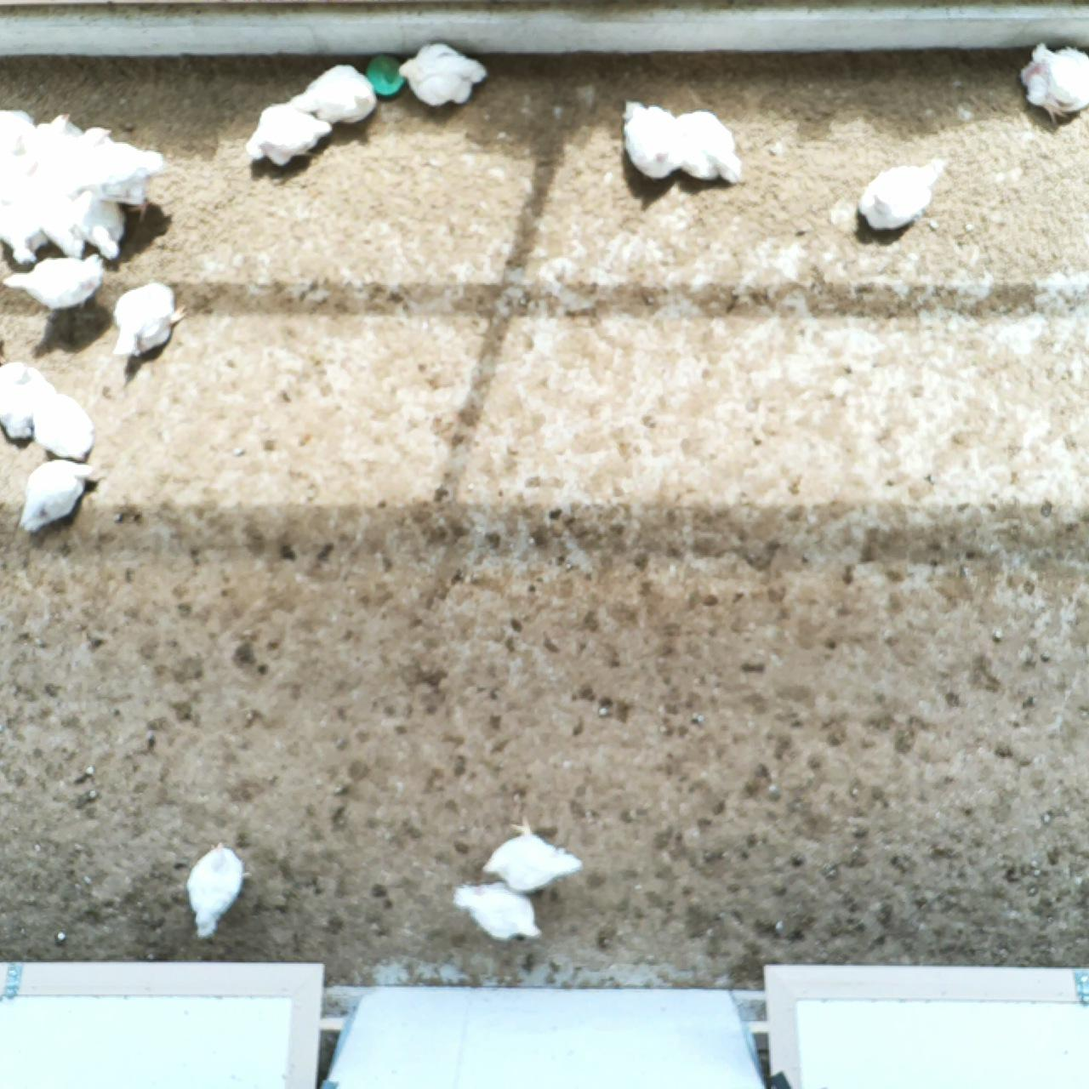chicken: (67, 140, 167, 224), (481, 816, 583, 893), (107, 278, 187, 370), (857, 155, 949, 232), (182, 843, 254, 940), (18, 454, 101, 534), (284, 62, 378, 130), (1019, 41, 1089, 128), (668, 106, 744, 186), (396, 40, 485, 108), (452, 880, 544, 944), (248, 103, 333, 170), (27, 389, 98, 467), (63, 177, 126, 262), (56, 123, 123, 202), (620, 100, 682, 182), (26, 175, 84, 260), (21, 107, 78, 191), (0, 357, 53, 447), (0, 178, 49, 270), (0, 99, 36, 162)
